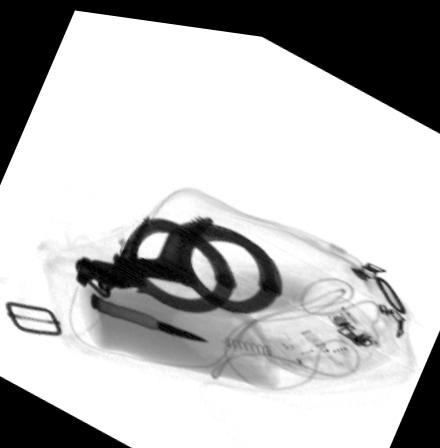Bullet: (88, 290, 208, 336)
HandCuffs: (66, 207, 284, 308)
